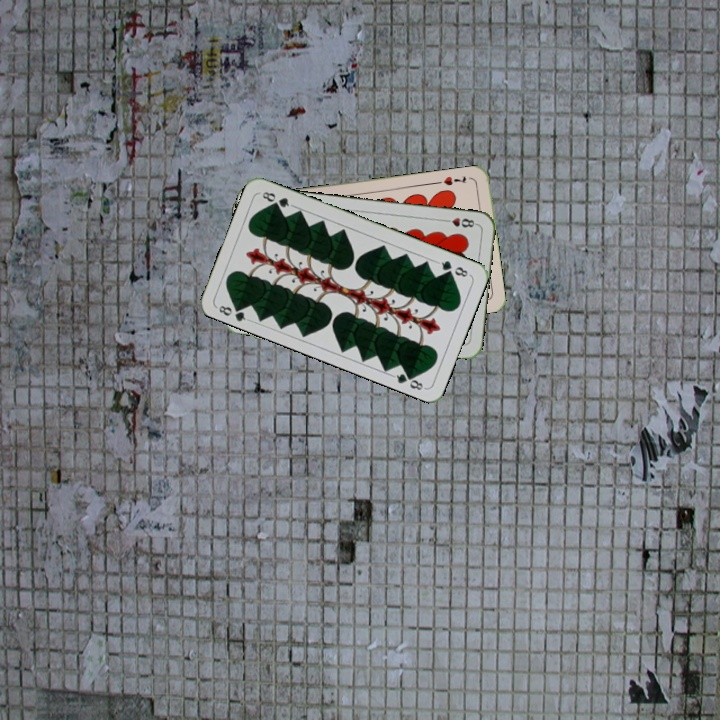G8: (433, 256, 472, 280), (213, 300, 252, 324)
H7: (440, 172, 469, 188)
H8: (439, 214, 480, 230)
